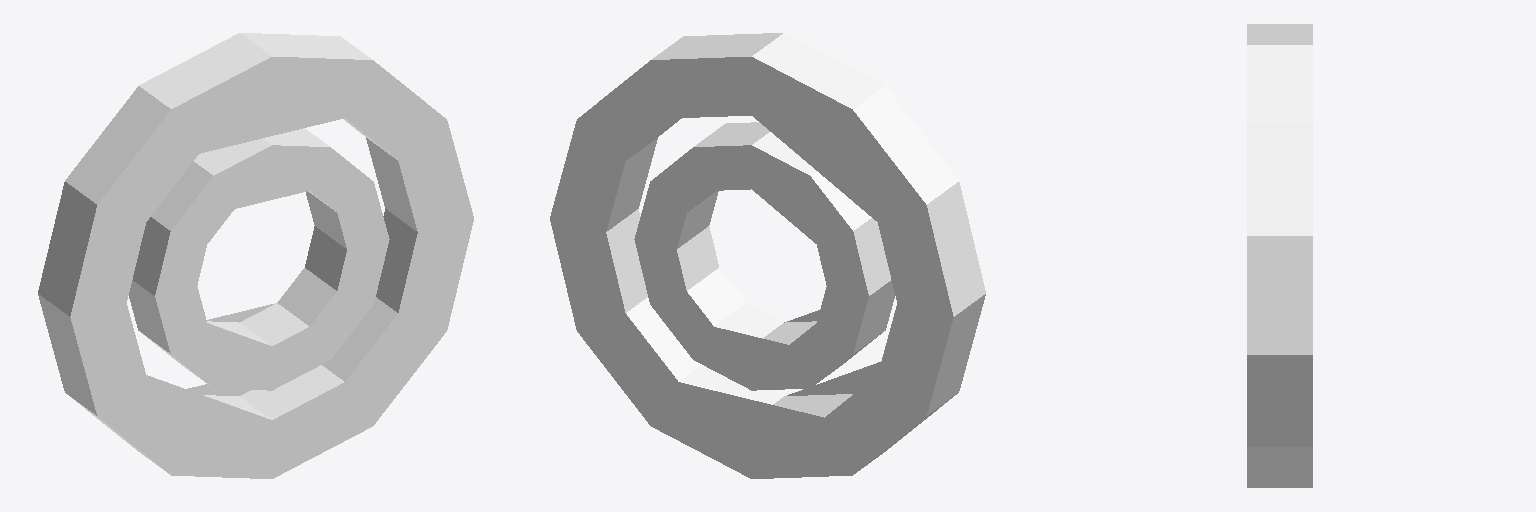
3 views of the same model, side by side, from view 1: azimuth 30°, elevation 25°; view 2: azimuth 150°, elevation 25°; view 3: azimuth 270°, elevation 25° (orthographic).
Parts seen in each view (by area): view 1: Layer_Model_Front; view 2: Layer_Model_Front; view 3: Layer_Model_Front.
Part boxes in pixels (bbox=[...]): Layer_Model_Front: bbox=[38, 33, 473, 478]; Layer_Model_Front: bbox=[550, 33, 985, 478]; Layer_Model_Front: bbox=[1247, 24, 1312, 487].
Size of the model in its own units: 2.86 by 2.86 by 0.4.